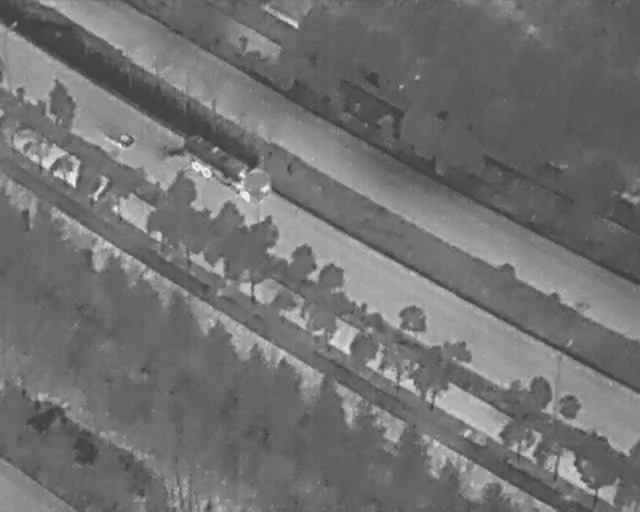Car: (100, 121, 136, 150)
OtherVehicle: (170, 125, 278, 208)
